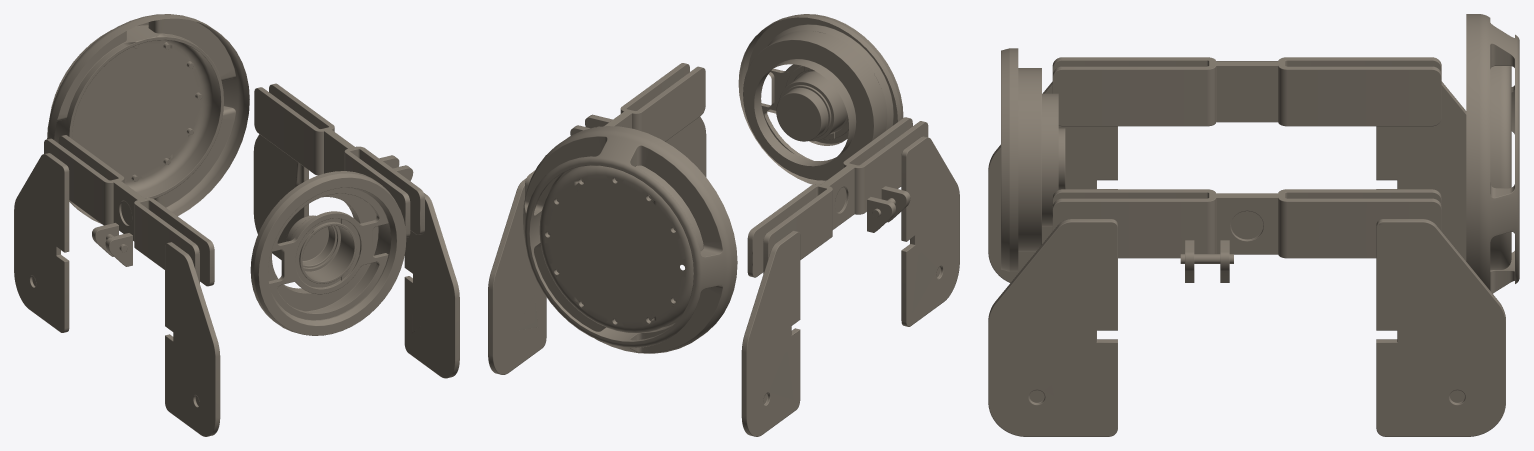
File: engine4.fbx
The picture shows the model from 3 angles, left to right: view 1: azimuth 30°, elevation 25°; view 2: azimuth 150°, elevation 25°; view 3: azimuth 270°, elevation 25°; orthographic projection. The views are drawn at different scales.
Parts seen in each view (by area): view 1: engine4; view 2: engine4; view 3: engine4.
Part boxes in pixels (left/top/right/bottom): engine4: left=14, top=14, right=459, bottom=436; engine4: left=488, top=14, right=959, bottom=436; engine4: left=988, top=14, right=1519, bottom=436.
Bounding box in the file's own units: 49.22 × 40.03 × 57.92.
